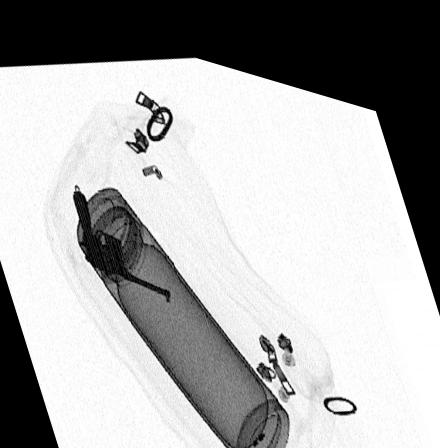Gun: (71, 184, 170, 295)
